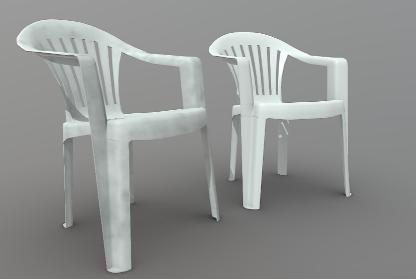chair: (14, 15, 226, 257), (206, 27, 363, 213)
